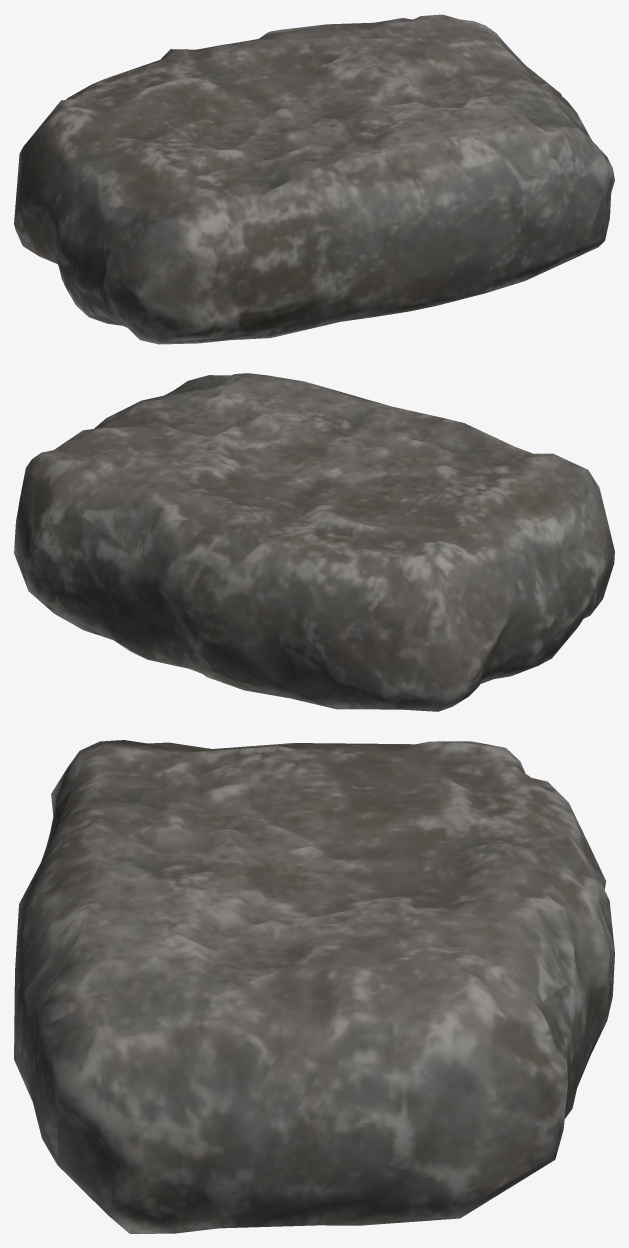
The model's file is SM_RP_Vol_01_10.fbx.
3 views of the same model, one above another, from view 1: azimuth 30°, elevation 25°; view 2: azimuth 150°, elevation 25°; view 3: azimuth 270°, elevation 25° (orthographic). The views are drawn at different scales.
Parts seen in each view (by area): view 1: SM_RP_Vol_01_10; view 2: SM_RP_Vol_01_10; view 3: SM_RP_Vol_01_10.
Part boxes in pixels (x1,y1,x2,y2): SM_RP_Vol_01_10: [14, 14, 614, 344]; SM_RP_Vol_01_10: [14, 373, 614, 711]; SM_RP_Vol_01_10: [14, 740, 614, 1233].
Size of the model in its own units: 19.17 by 6.32 by 14.1.
Materials: 1 (1 with a texture image).
